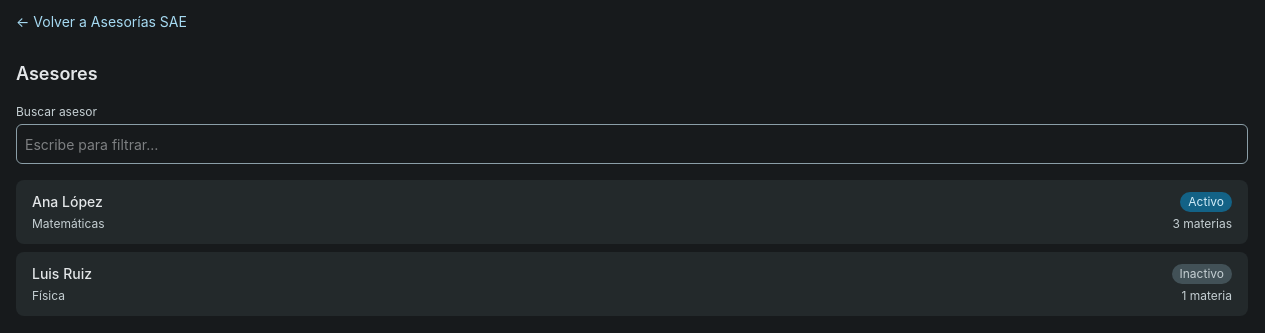
Test: AdminAsesores › filtra por nombre en el cliente
In the field labelled "Buscar asesor": (632, 144) x1=16 y1=124 x2=1248 y2=164, type "luis"
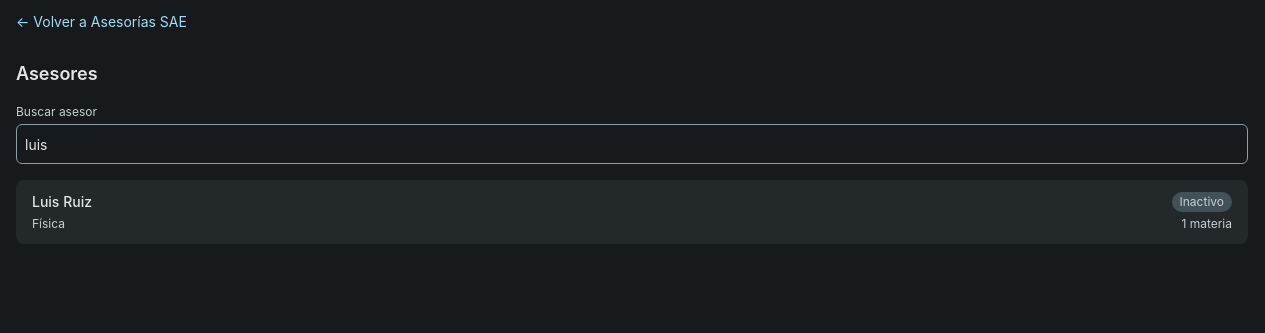
Expected: the button "Luis Ruiz Física Inactivo 1 materia" is shown, x1=16 y1=180 x2=1248 y2=244
Expected: the button "Ana López" is gone
